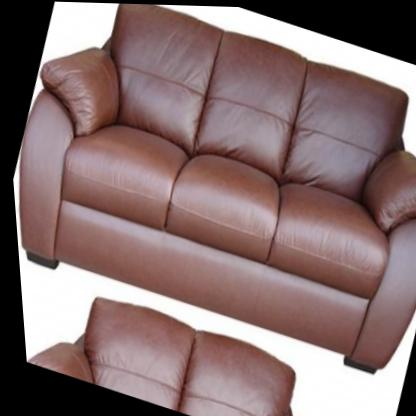Sofa: (0, 0, 416, 385)
